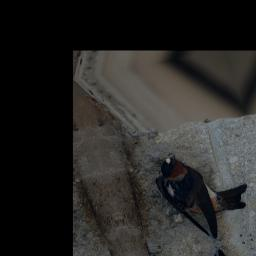Swallow: (146, 143, 256, 248)
